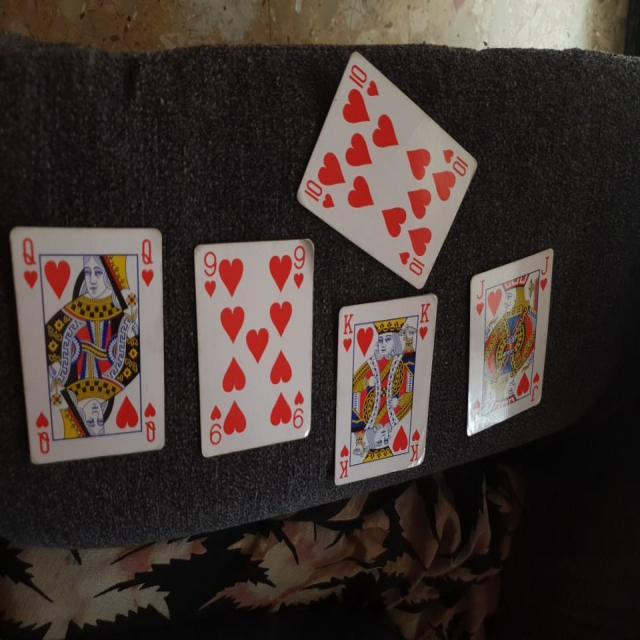10 of hearts: (283, 42, 482, 286)
9 of hearts: (187, 225, 319, 454)
jack of hearts: (464, 248, 560, 444)
king of hearts: (337, 286, 440, 478)
queen of hearts: (5, 212, 169, 474)
